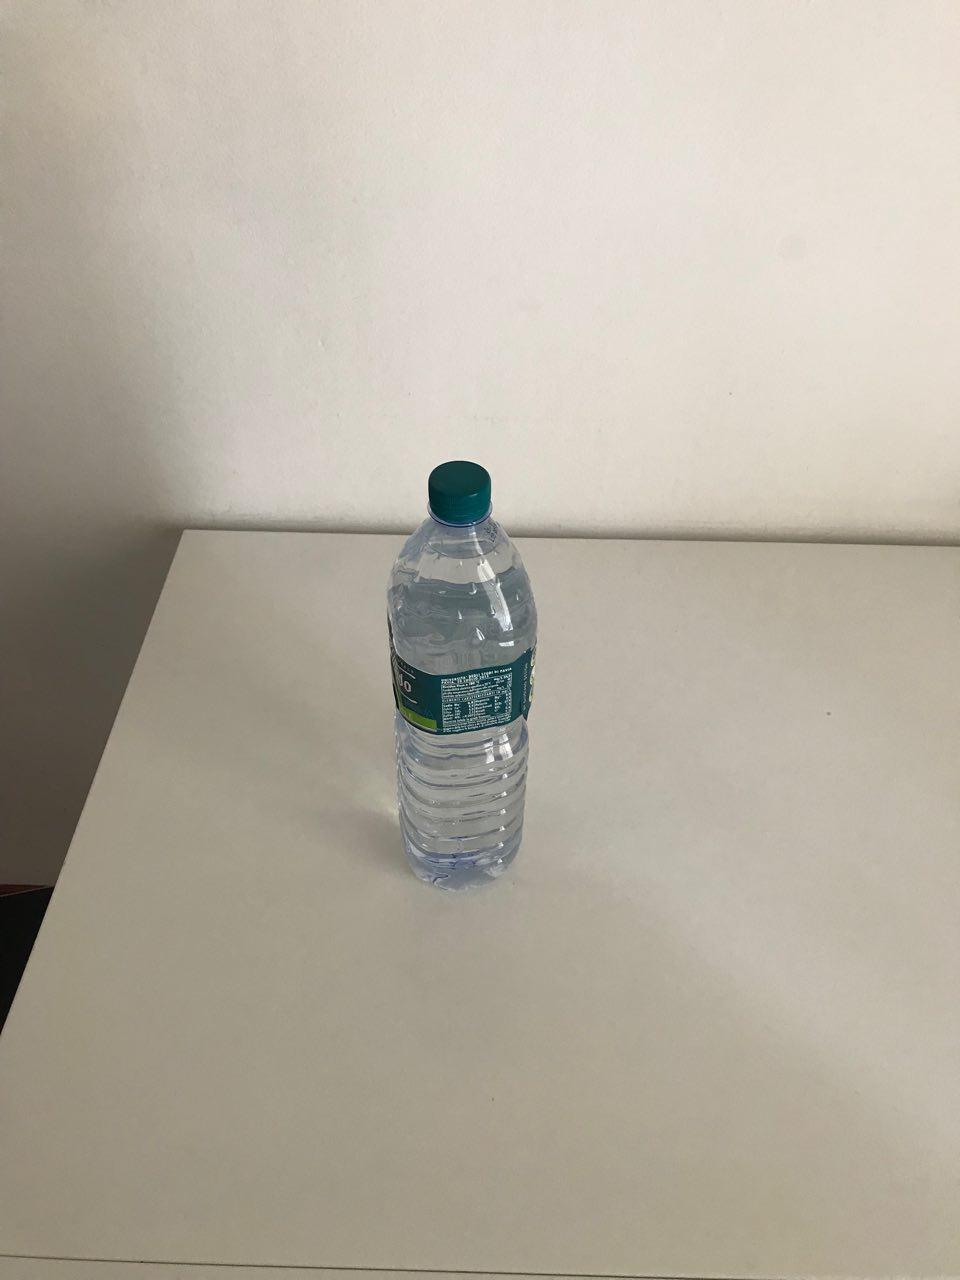san_bernardo: (385, 457, 539, 896)
